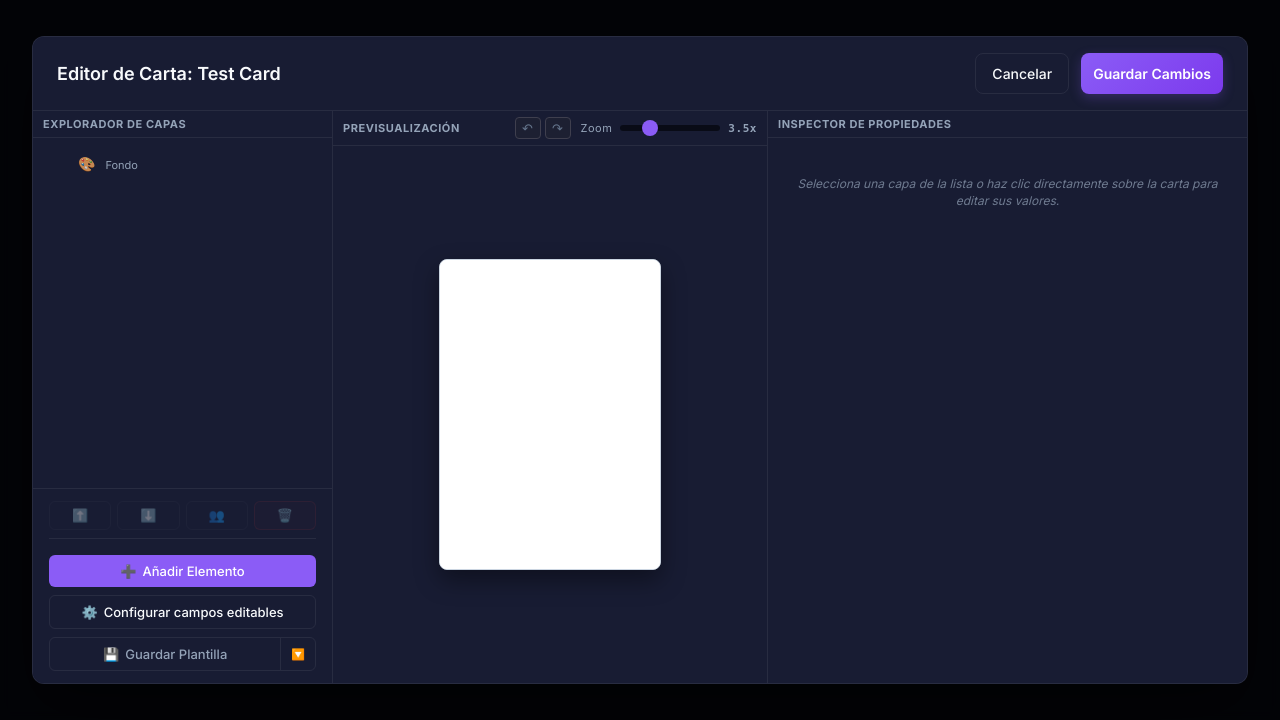
Test case: EditCardModal Component - Zoom Tests › actualiza dinámicamente el valor de la escala cuando se mueve el slider
Set the slider to "4.8" at {"x": 660, "y": 128}, box [620,125,720,131]
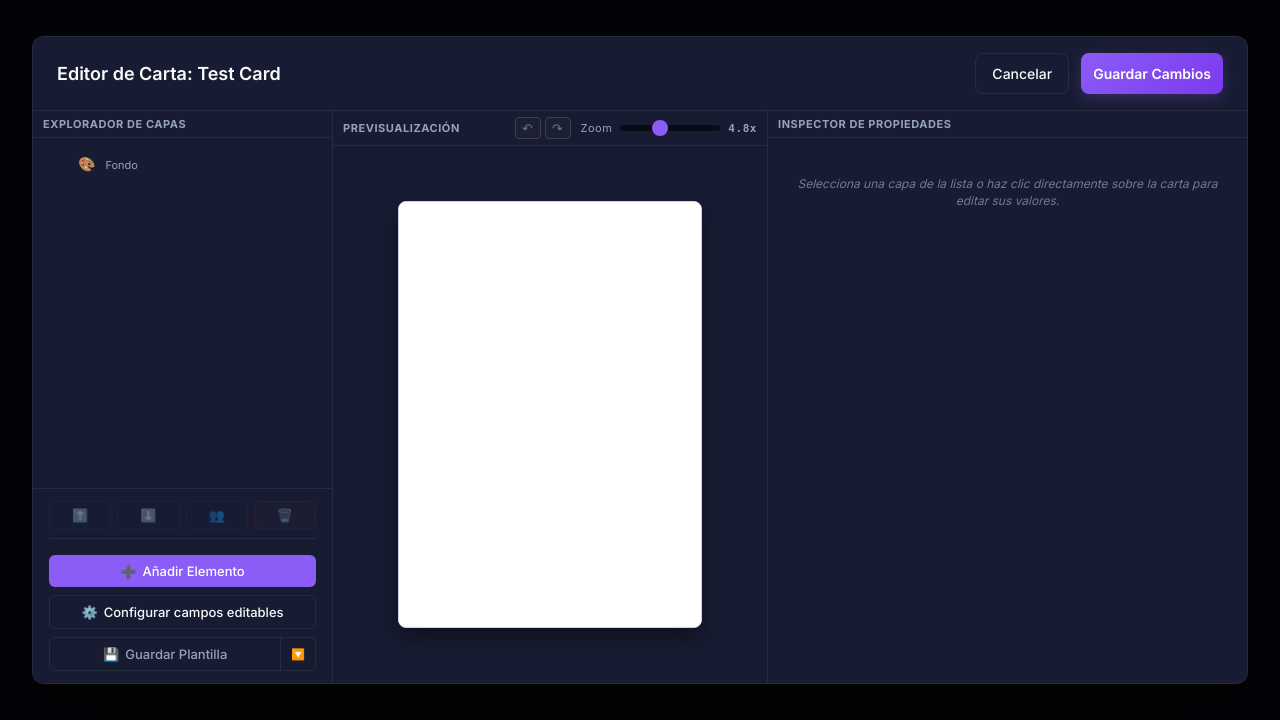
Check: the text "4.8x" is shown, box [728,122,757,134]
